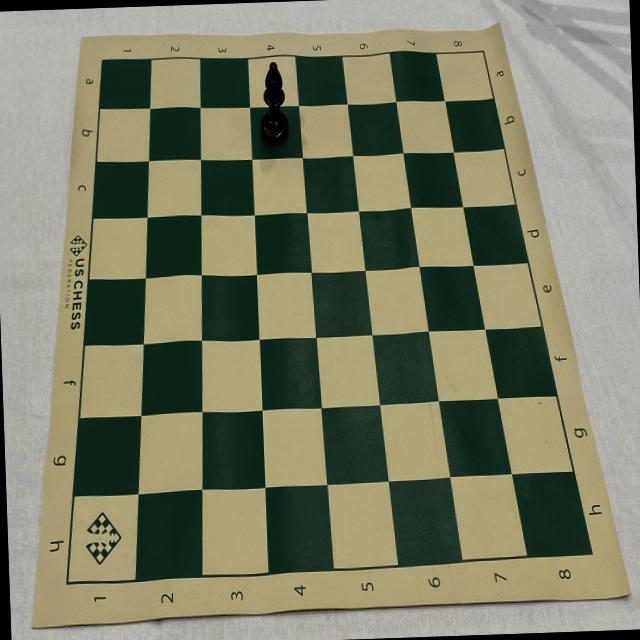black-bishop: (258, 60, 291, 147)
